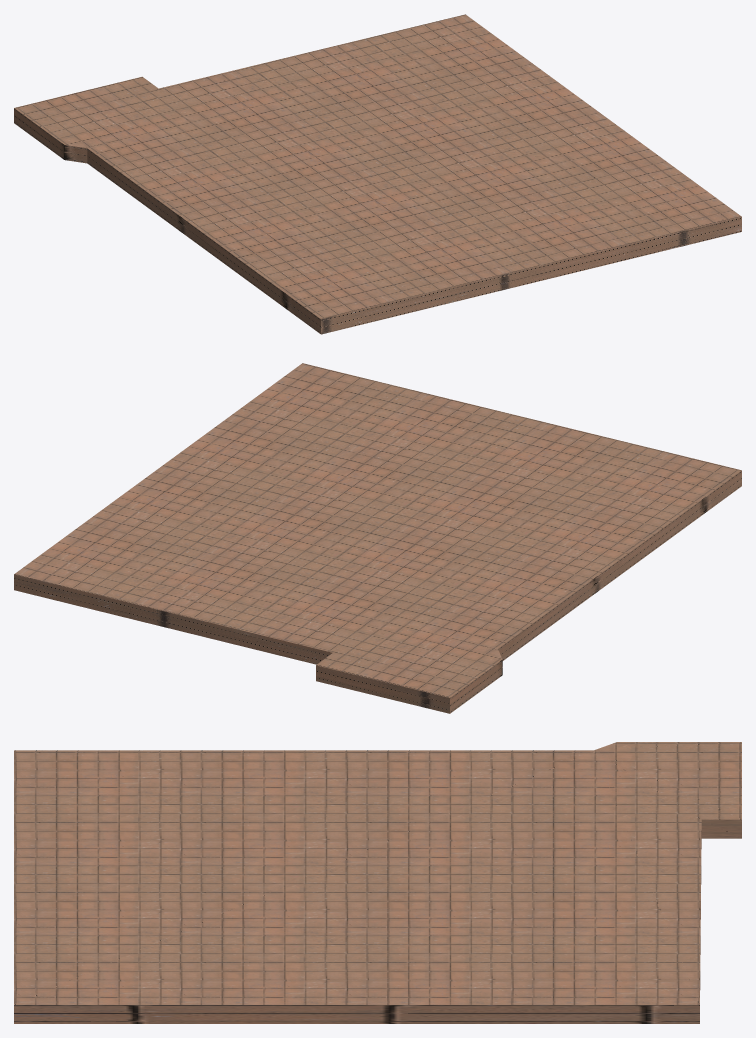
File: floor.fbx
3 views of the same model, one above another, from view 1: azimuth 30°, elevation 25°; view 2: azimuth 150°, elevation 25°; view 3: azimuth 270°, elevation 25° (orthographic). The views are drawn at different scales.
Visible parts, largest first — view 1: polySurface14; view 2: polySurface14; view 3: polySurface14.
Boxes of the visible parts, bbox=[...] form: polySurface14: bbox=[14, 14, 741, 334]; polySurface14: bbox=[14, 363, 741, 713]; polySurface14: bbox=[14, 742, 741, 1023].
Bounding box in the file's own units: 29.94 × 1 × 35.02.
